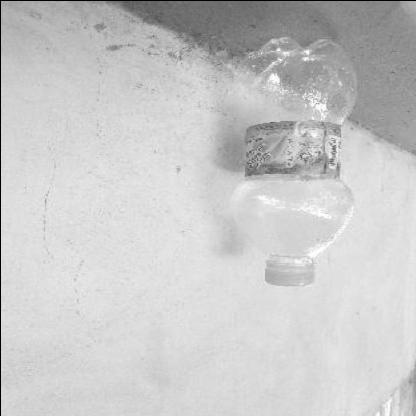plastic_bottles: (230, 34, 357, 289)
